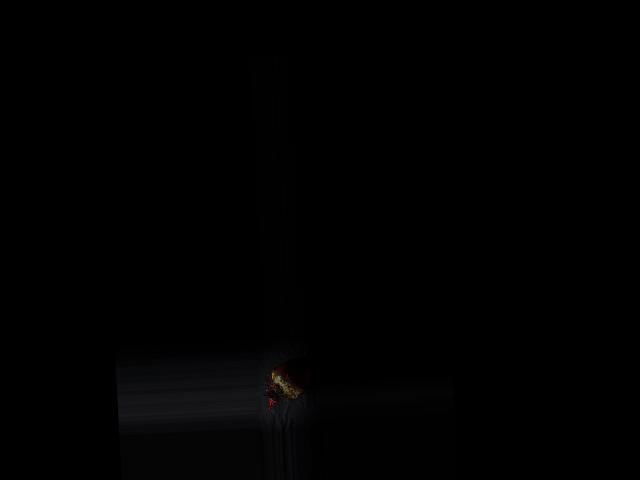beet: (261, 347, 315, 410)
